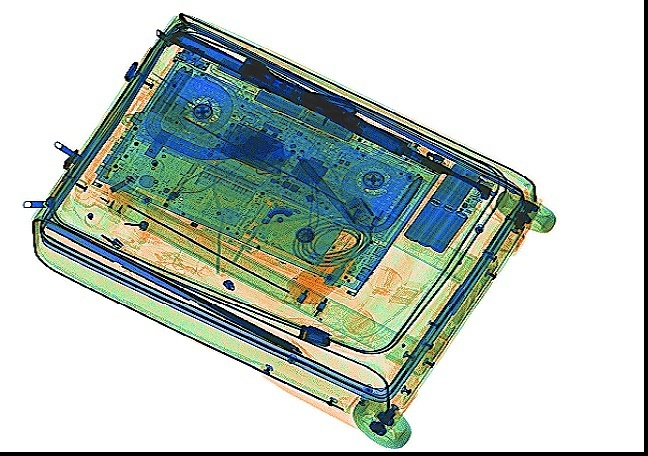powerbank: (397, 159, 496, 257)
